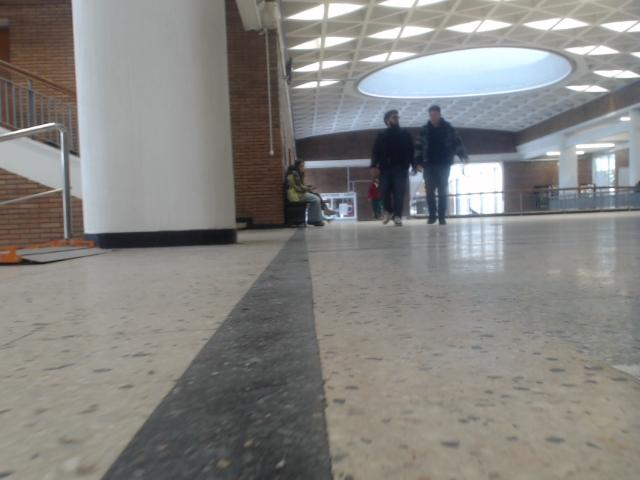rampDown: (17, 247, 105, 263)
ramps-railing: (0, 123, 72, 239)
